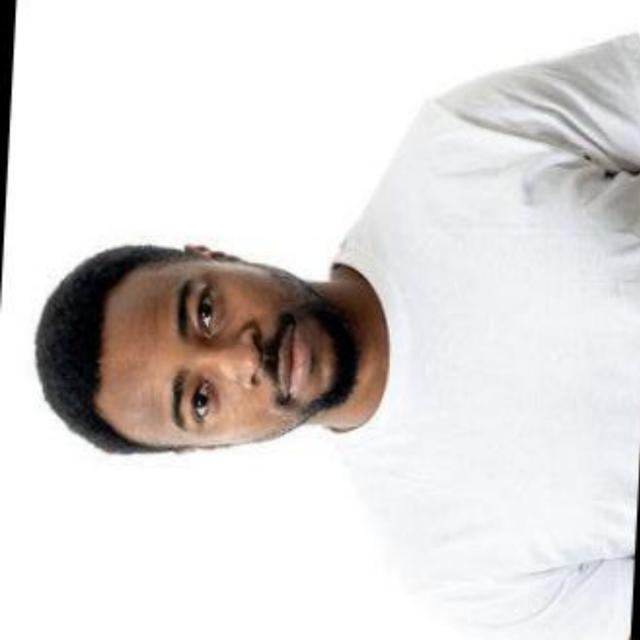Natural: (85, 224, 392, 489)
